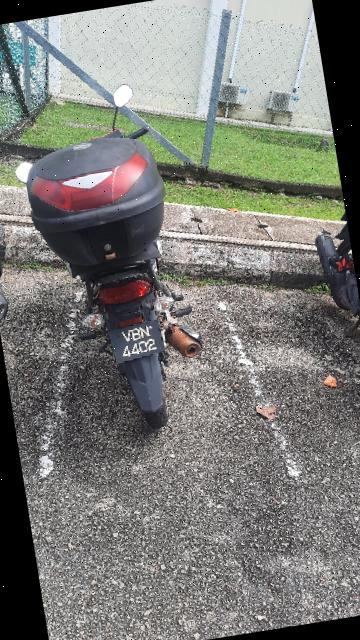License_Plate: (99, 314, 175, 371)
motorcycle: (1, 67, 229, 452)
